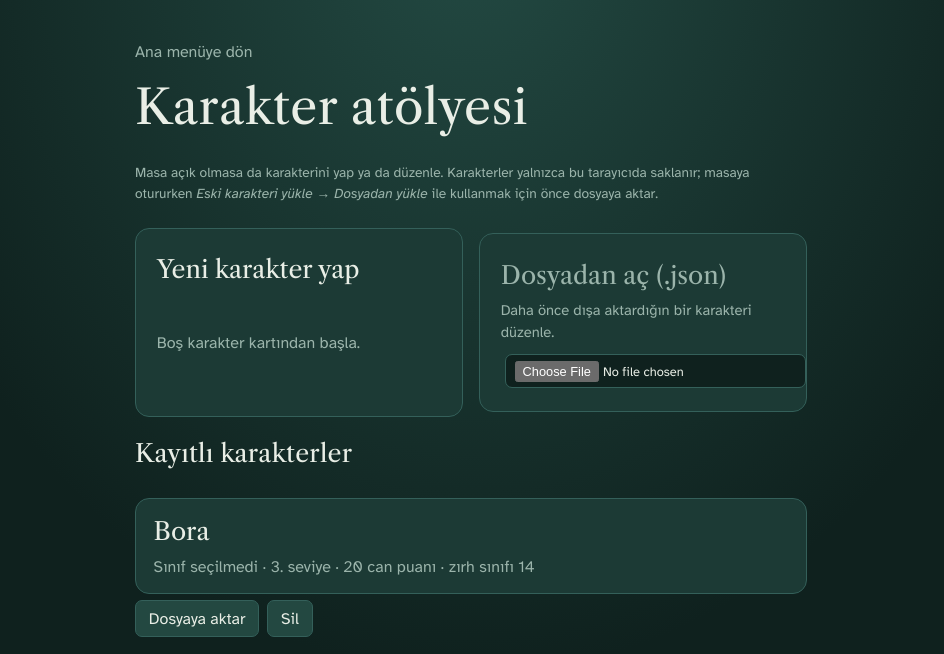
Test: atölyede kayıtlı karakter silinir
Click the button with aria-label "Bora sil" at (290, 619), box [267,600,313,637]
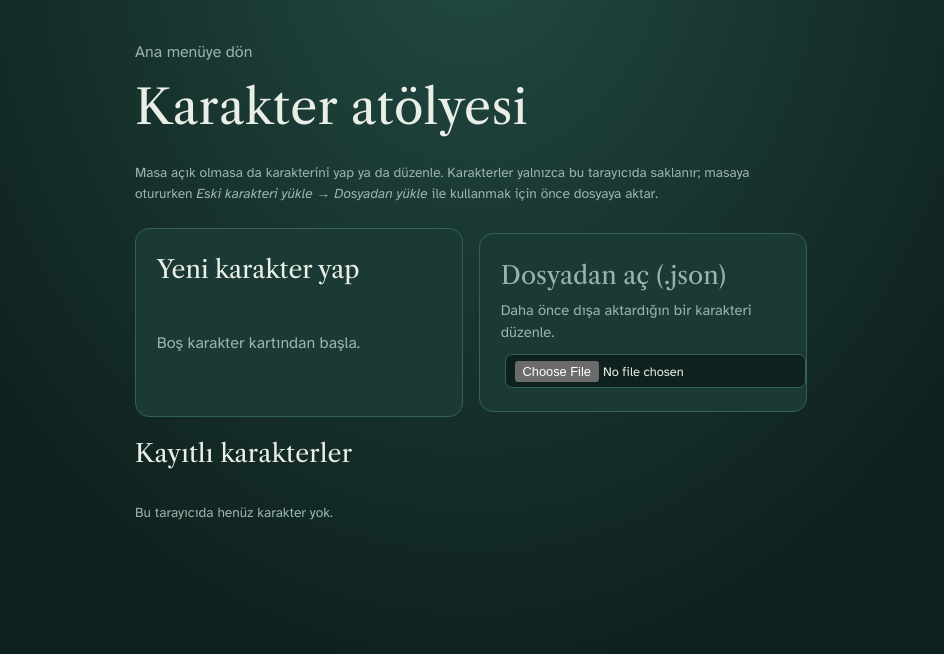
Check: the text "Bu tarayıcıda henüz karakter yok." is shown, box [135,503,333,524]
